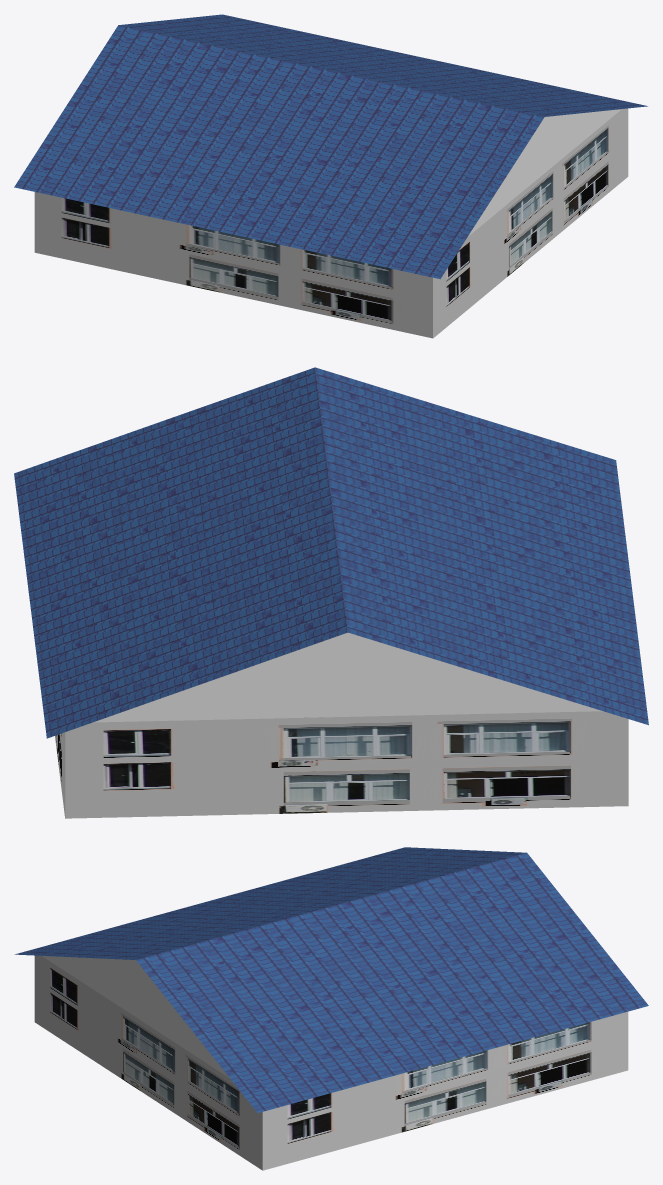
3 views of the same model, one above another, from view 1: azimuth 30°, elevation 25°; view 2: azimuth 150°, elevation 25°; view 3: azimuth 270°, elevation 25° (orthographic). The views are drawn at different scales.
Parts seen in each view (by area): view 1: CityEngineMaterial_10_m, CityEngineMaterial_9_m, CityEngineMaterial_3_m; view 2: CityEngineMaterial_10_m, CityEngineMaterial_9_m, CityEngineMaterial_3_m; view 3: CityEngineMaterial_10_m, CityEngineMaterial_9_m, CityEngineMaterial_3_m.
Part boxes in pixels (<box>): CityEngineMaterial_10_m: <box>14,14,647,279</box>; CityEngineMaterial_9_m: <box>34,108,628,338</box>; CityEngineMaterial_3_m: <box>468,109,621,236</box>; CityEngineMaterial_10_m: <box>14,367,648,738</box>; CityEngineMaterial_9_m: <box>55,711,628,818</box>; CityEngineMaterial_3_m: <box>93,632,602,722</box>; CityEngineMaterial_10_m: <box>14,847,648,1112</box>; CityEngineMaterial_9_m: <box>34,955,628,1170</box>; CityEngineMaterial_3_m: <box>42,956,229,1077</box>.
Bounding box in the file's own units: 41.02 × 10.06 × 41.38.
